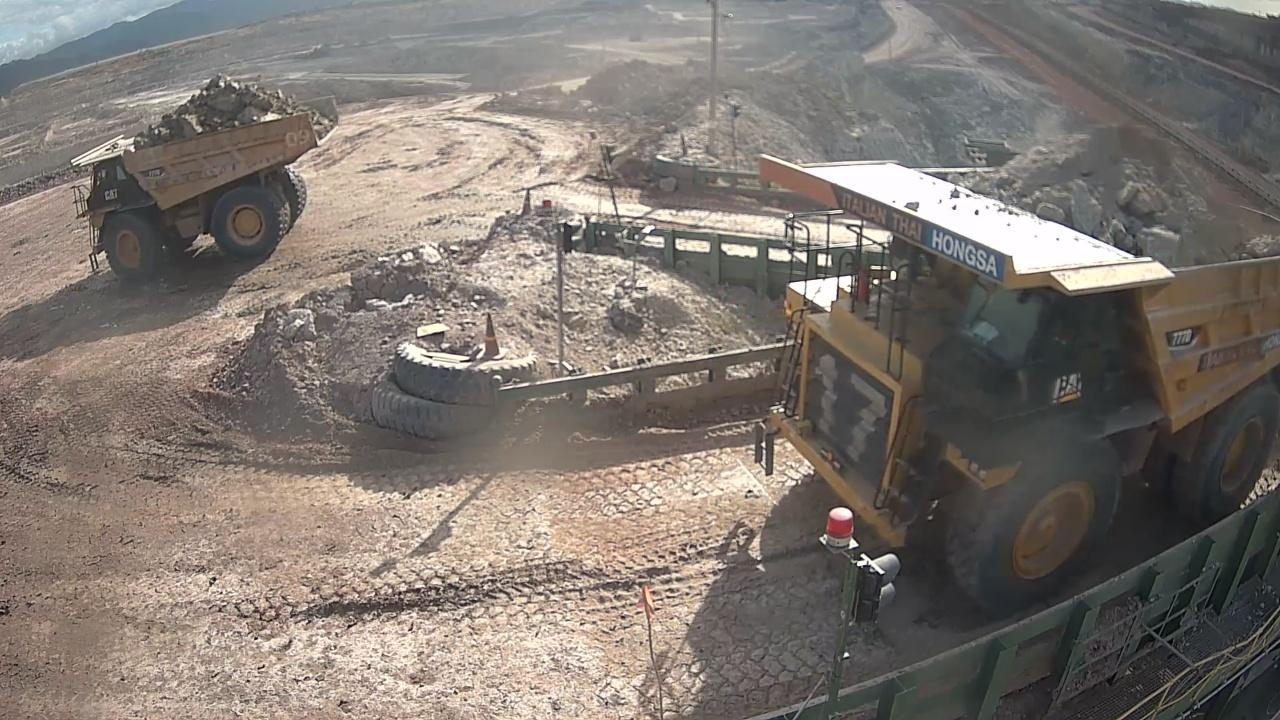front_number: (800, 338, 887, 484)
full_load: (957, 158, 1273, 297), (140, 76, 317, 144)
mining_truck: (751, 152, 1278, 616), (67, 72, 339, 282)
